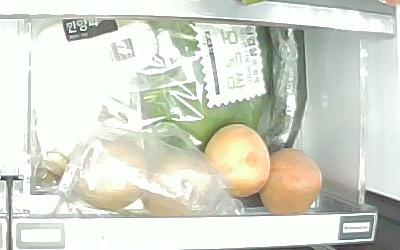peach: (204, 123, 271, 198), (260, 147, 323, 216)
peach_vinyl: (73, 139, 147, 209), (148, 159, 216, 217)
